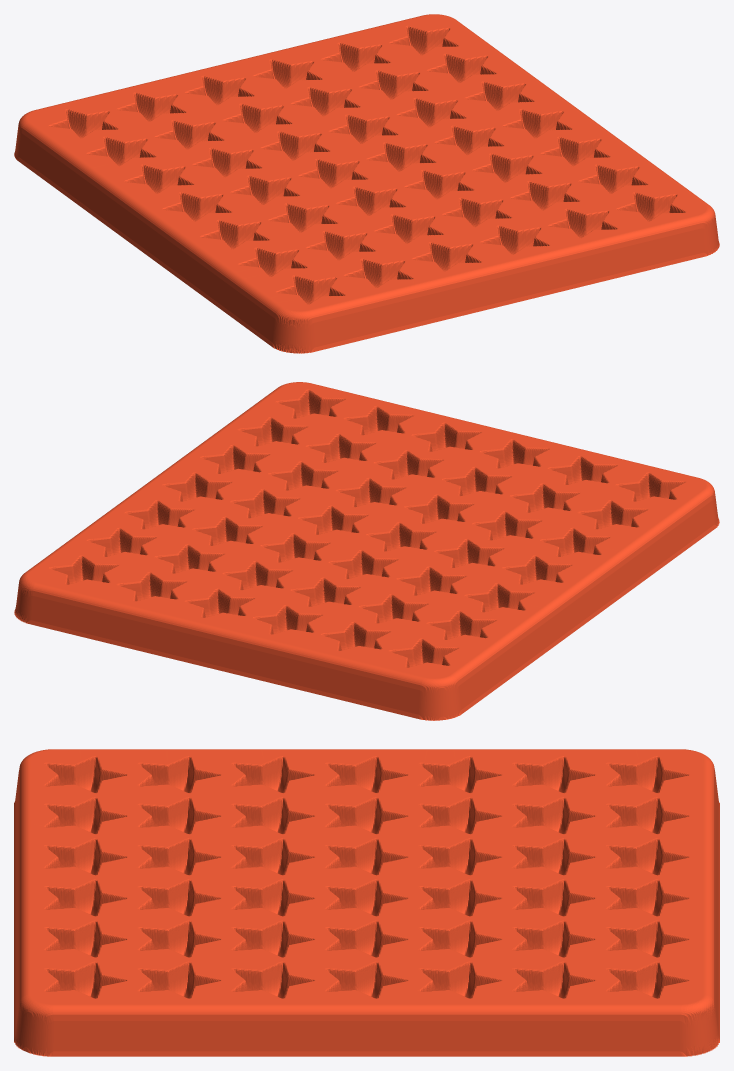
File: mold.glb
3 views of the same model, one above another, from view 1: azimuth 30°, elevation 25°; view 2: azimuth 150°, elevation 25°; view 3: azimuth 270°, elevation 25° (orthographic). The views are drawn at different scales.
Visible parts, largest first — view 1: geometry_0; view 2: geometry_0; view 3: geometry_0.
Boxes of the visible parts, box(x1,y1,x2,y2) form: geometry_0: box(14, 14, 719, 353); geometry_0: box(14, 382, 719, 720); geometry_0: box(14, 749, 719, 1056).
Size of the model in its own units: 0.1437 by 0.0114 by 0.16.
